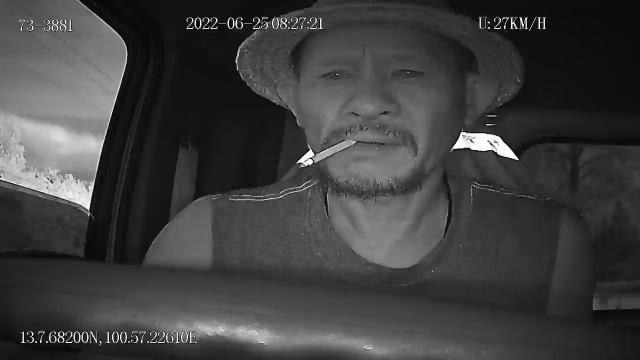SafeDriving: (382, 57, 432, 86), (313, 59, 359, 85)
Smoking: (297, 138, 359, 166)
